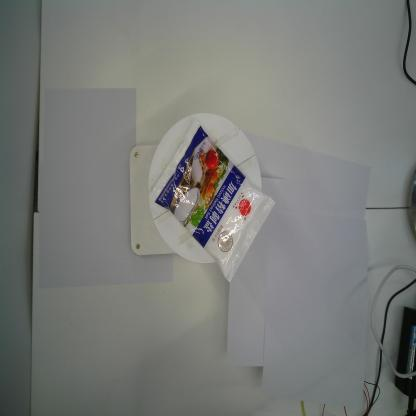Seasoner: (148, 117, 276, 283)
